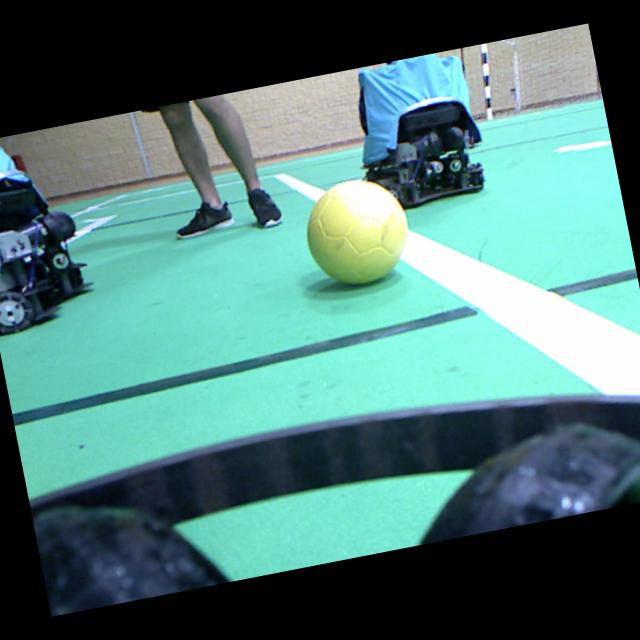ball: (307, 180, 407, 283)
